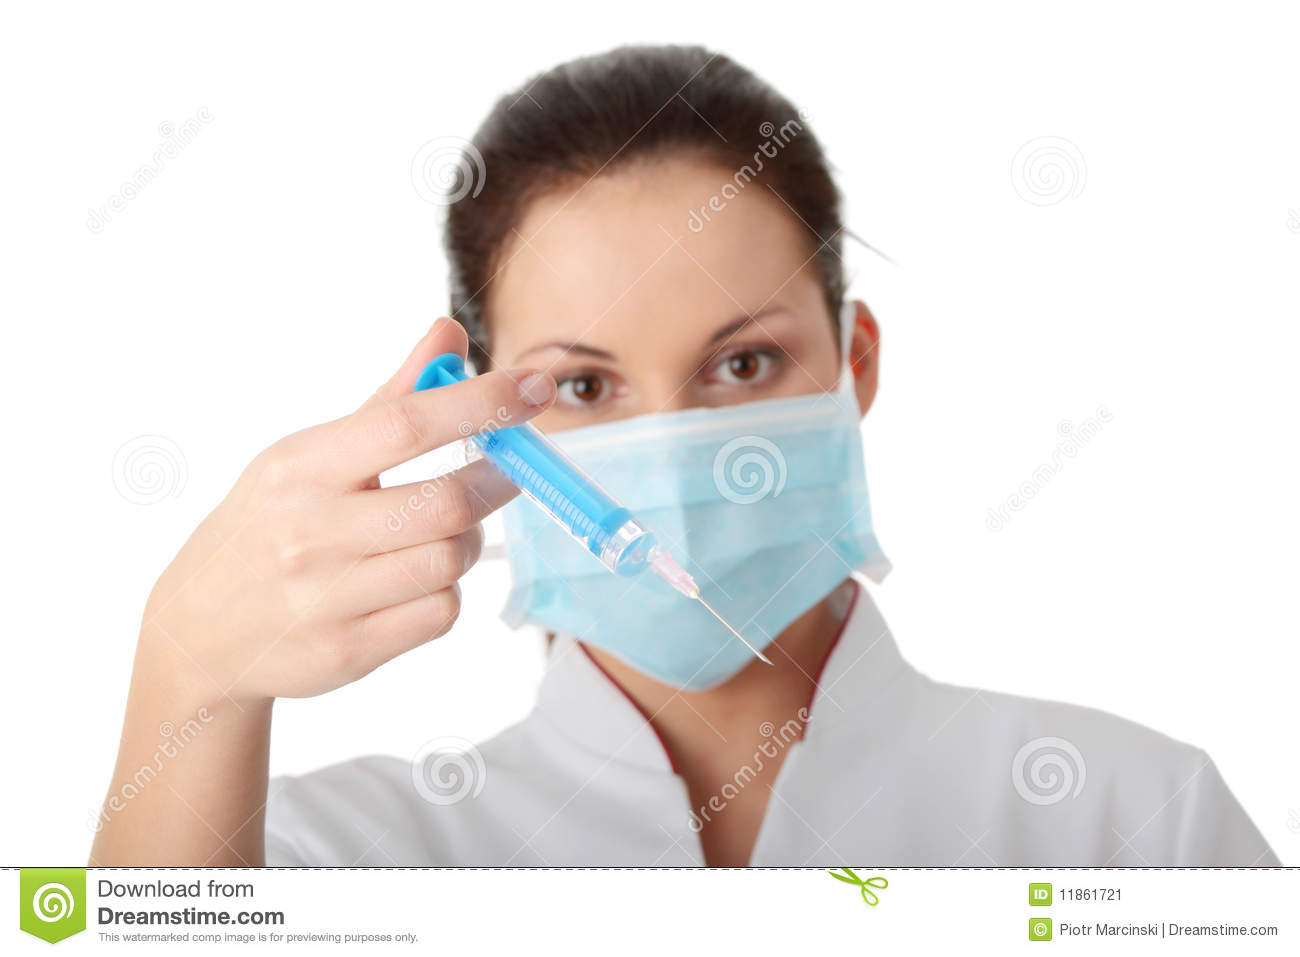mask: (491, 399, 880, 694)
